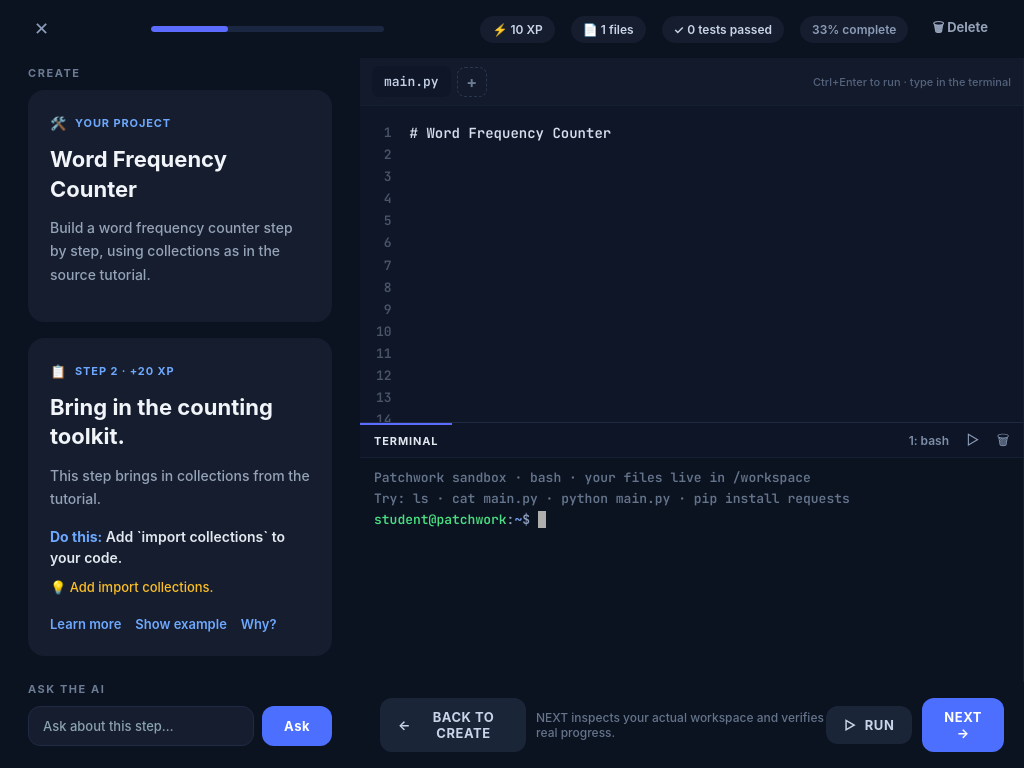
Scenario: ProjectWorkspace › verifies via NEXT and shows failing checks with guidance
Expected: the heading "Word Frequency Counter" is shown, [50, 146, 227, 202]
Click the button "NEXT →" at (963, 725), box [922, 698, 1004, 752]
(page scrolled)
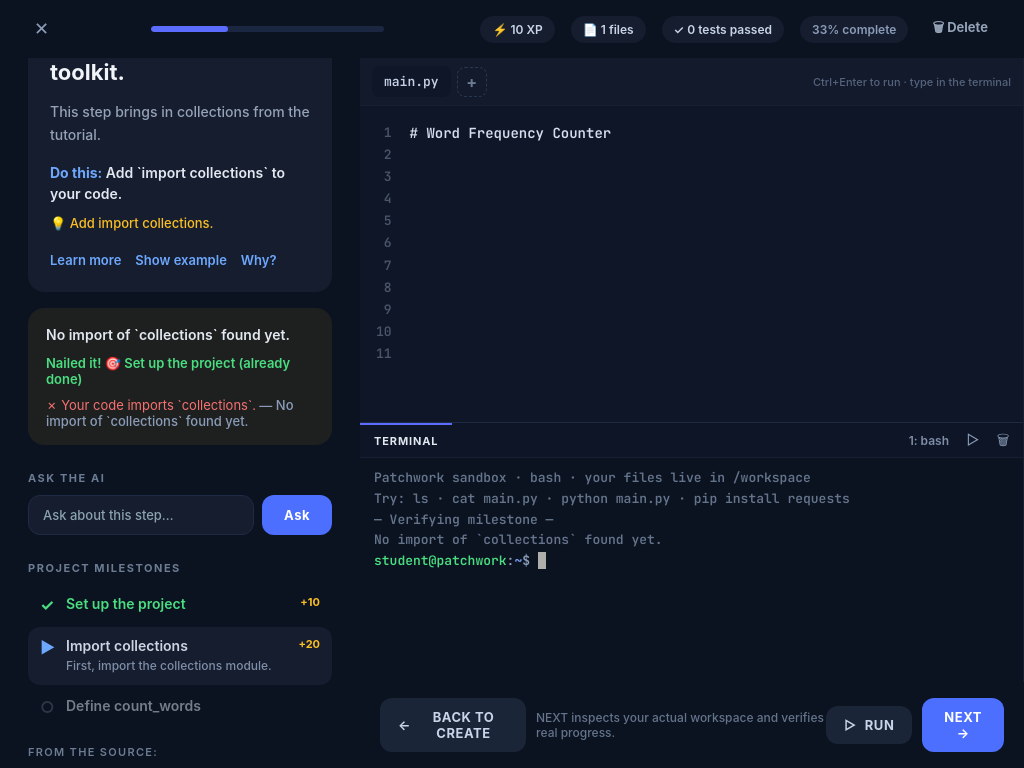
Now the list item "Your code imports" is shown, box [61, 397, 256, 413]
